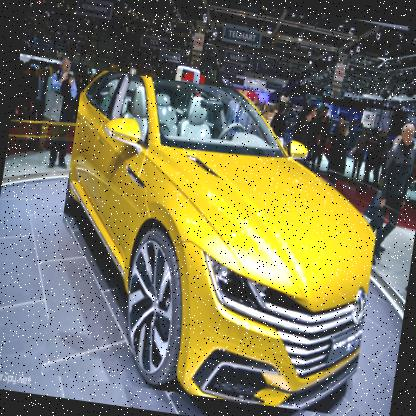Car: (40, 67, 394, 415)
